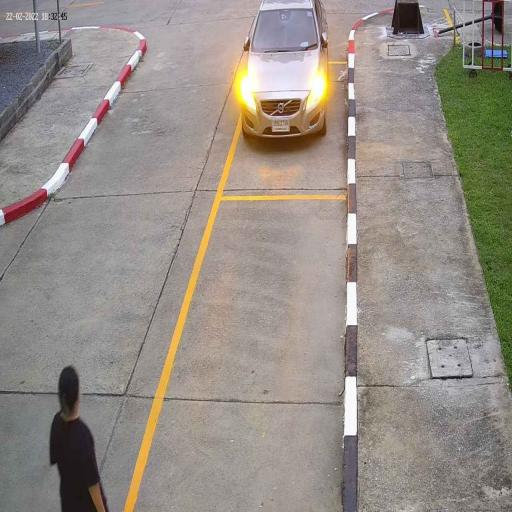car: (240, 0, 330, 143)
